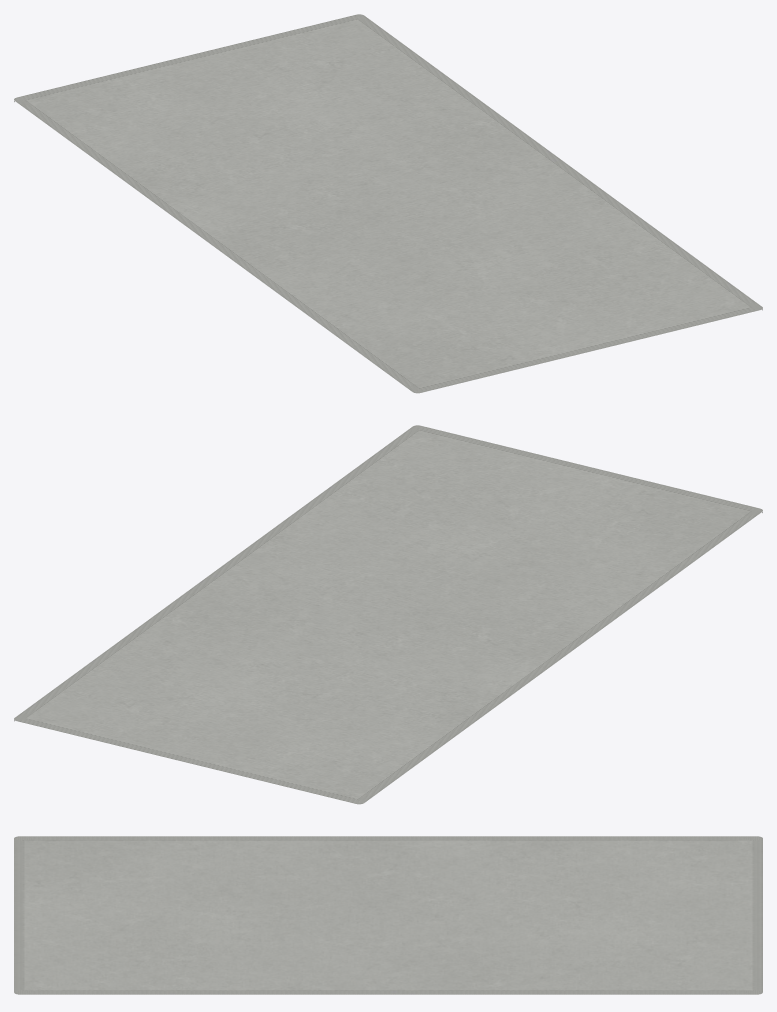
The model's file is gray_module.glb.
3 views of the same model, one above another, from view 1: azimuth 30°, elevation 25°; view 2: azimuth 150°, elevation 25°; view 3: azimuth 270°, elevation 25° (orthographic). The views are drawn at different scales.
Parts seen in each view (by area): view 1: reliv_gray_module; view 2: reliv_gray_module; view 3: reliv_gray_module.
Part boxes in pixels (x1,y1,x2,y2): reliv_gray_module: [14, 14, 762, 393]; reliv_gray_module: [14, 425, 762, 804]; reliv_gray_module: [14, 836, 762, 994].
Bounding box in the file's own units: 1 × 0.009 × 2.
2 materials, 1 textured.
